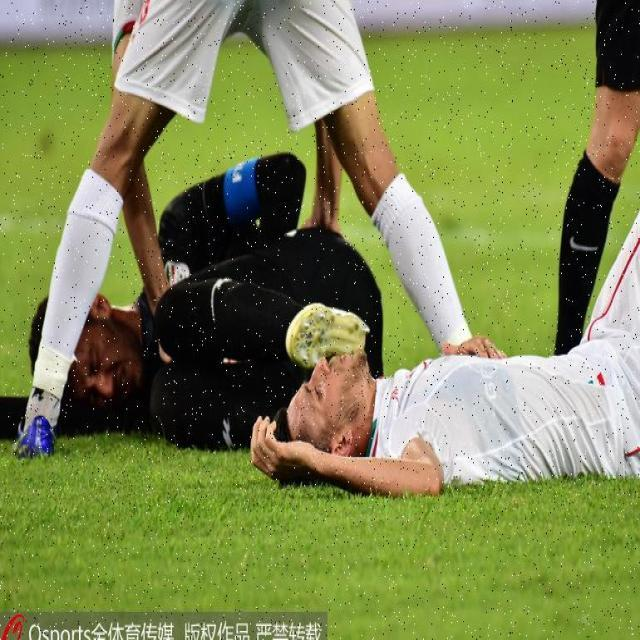fall: (266, 248, 639, 480), (18, 174, 360, 418)
